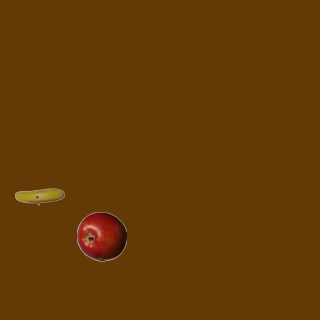Apple Braeburn: (76, 211, 126, 261)
Banana: (14, 171, 64, 221)
